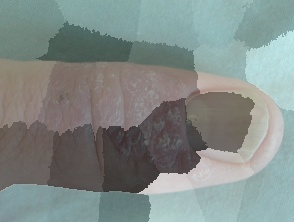Nail_psoriasis: (63, 52, 290, 193)
